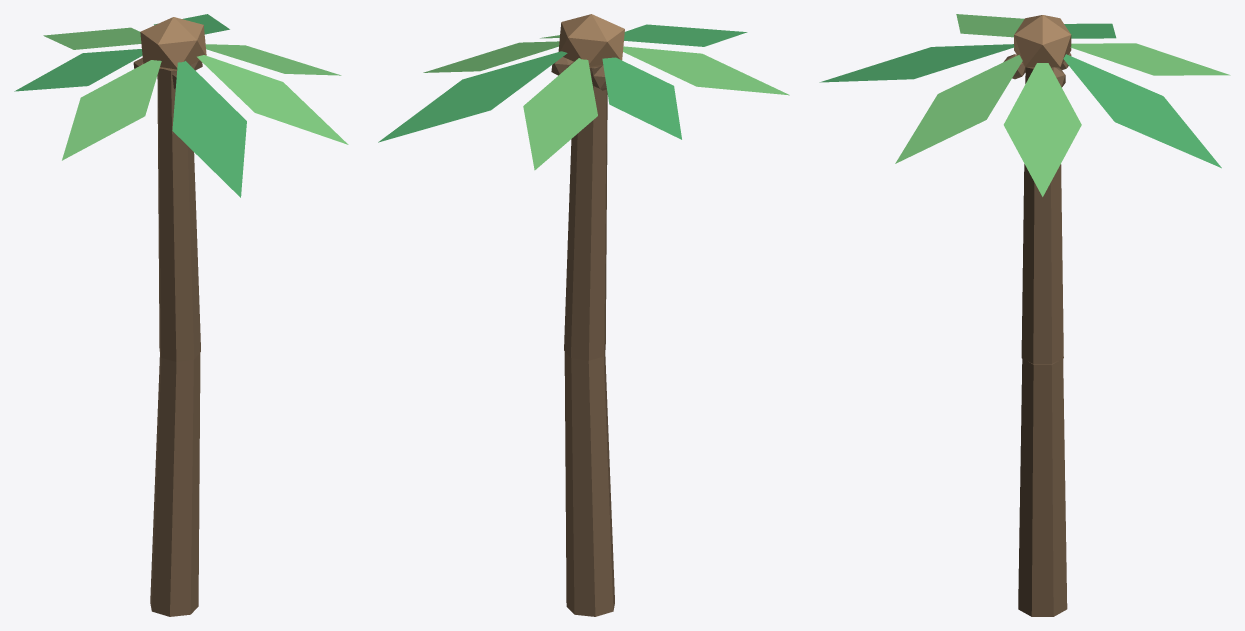
File: palm_tree_01.glb
The picture shows the model from 3 angles, left to right: view 1: azimuth 30°, elevation 25°; view 2: azimuth 150°, elevation 25°; view 3: azimuth 270°, elevation 25°; orthographic projection.
Parts seen in each view (by area): view 1: palm_tree_01_trunk_segment_1, palm_tree_01_trunk_segment_2, palm_tree_01_frond_6, palm_tree_01_frond_5, palm_tree_01_frond_7, palm_tree_01_crown, palm_tree_01_frond_4, palm_tree_01_frond_1, palm_tree_01_frond_3; view 2: palm_tree_01_trunk_segment_1, palm_tree_01_trunk_segment_2, palm_tree_01_frond_3, palm_tree_01_frond_2, palm_tree_01_frond_4, palm_tree_01_frond_5, palm_tree_01_crown, palm_tree_01_frond_6, palm_tree_01_frond_1; view 3: palm_tree_01_trunk_segment_1, palm_tree_01_trunk_segment_2, palm_tree_01_frond_1, palm_tree_01_frond_2, palm_tree_01_frond_7, palm_tree_01_frond_6, palm_tree_01_frond_3, palm_tree_01_crown, palm_tree_01_frond_5, palm_tree_01_frond_4.
Boxes of the visible parts, box(x1,y1,x2,y2) form: palm_tree_01_trunk_segment_1: box(150, 353, 200, 616); palm_tree_01_trunk_segment_2: box(157, 65, 200, 361); palm_tree_01_frond_6: box(172, 61, 246, 197); palm_tree_01_frond_5: box(62, 60, 161, 160); palm_tree_01_frond_7: box(197, 55, 348, 144); palm_tree_01_crown: box(140, 17, 206, 70); palm_tree_01_frond_4: box(14, 49, 142, 91); palm_tree_01_frond_1: box(205, 44, 341, 75); palm_tree_01_frond_3: box(43, 27, 141, 49); palm_tree_01_trunk_segment_1: box(564, 351, 614, 616); palm_tree_01_trunk_segment_2: box(564, 67, 607, 360); palm_tree_01_frond_3: box(523, 58, 597, 170); palm_tree_01_frond_2: box(378, 51, 567, 142); palm_tree_01_frond_4: box(602, 57, 681, 139); palm_tree_01_frond_5: box(623, 46, 789, 95); palm_tree_01_crown: box(558, 14, 624, 67); palm_tree_01_frond_6: box(624, 24, 747, 46); palm_tree_01_frond_1: box(423, 41, 559, 72); palm_tree_01_trunk_segment_1: box(1018, 359, 1067, 616); palm_tree_01_trunk_segment_2: box(1021, 67, 1063, 364); palm_tree_01_frond_1: box(1003, 63, 1081, 196); palm_tree_01_frond_2: box(1063, 54, 1221, 168); palm_tree_01_frond_7: box(895, 55, 1022, 163); palm_tree_01_frond_6: box(819, 44, 1014, 82); palm_tree_01_frond_3: box(1070, 43, 1230, 75); palm_tree_01_crown: box(1014, 15, 1071, 68); palm_tree_01_frond_5: box(956, 14, 1024, 37); palm_tree_01_frond_4: box(1064, 23, 1116, 38).
Bounding box in the file's own units: 2.68 × 4.67 × 2.95.
